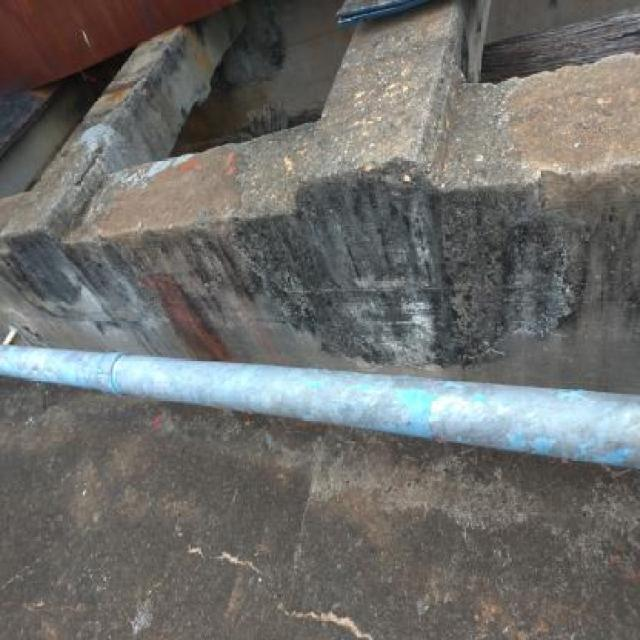gas: (1, 345, 640, 471)
